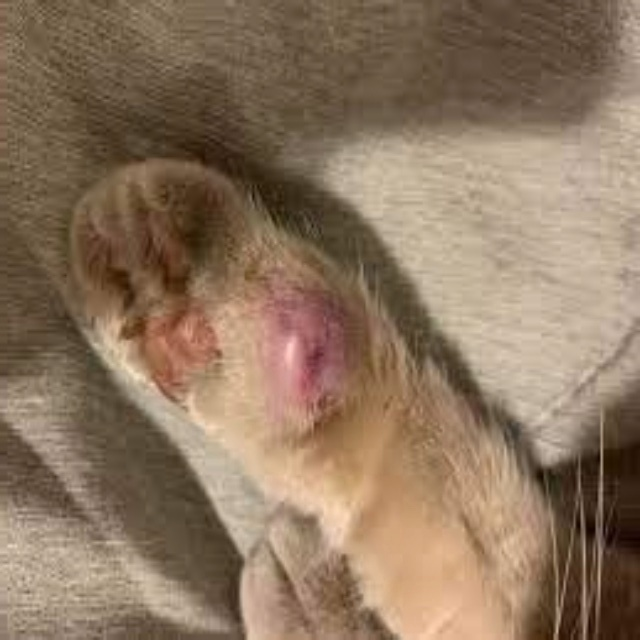lump_and_bump: (272, 291, 355, 425)
